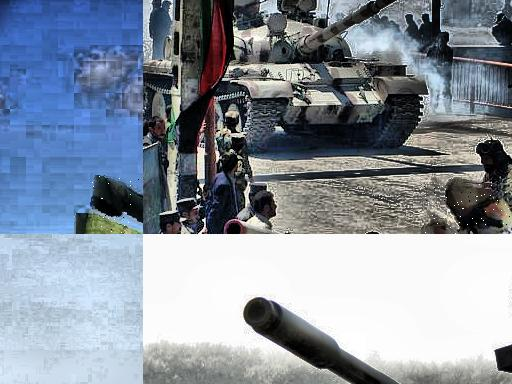tanks: (214, 1, 428, 150), (245, 299, 400, 384), (426, 183, 512, 235), (144, 60, 174, 116), (230, 220, 287, 235), (497, 345, 512, 373)
